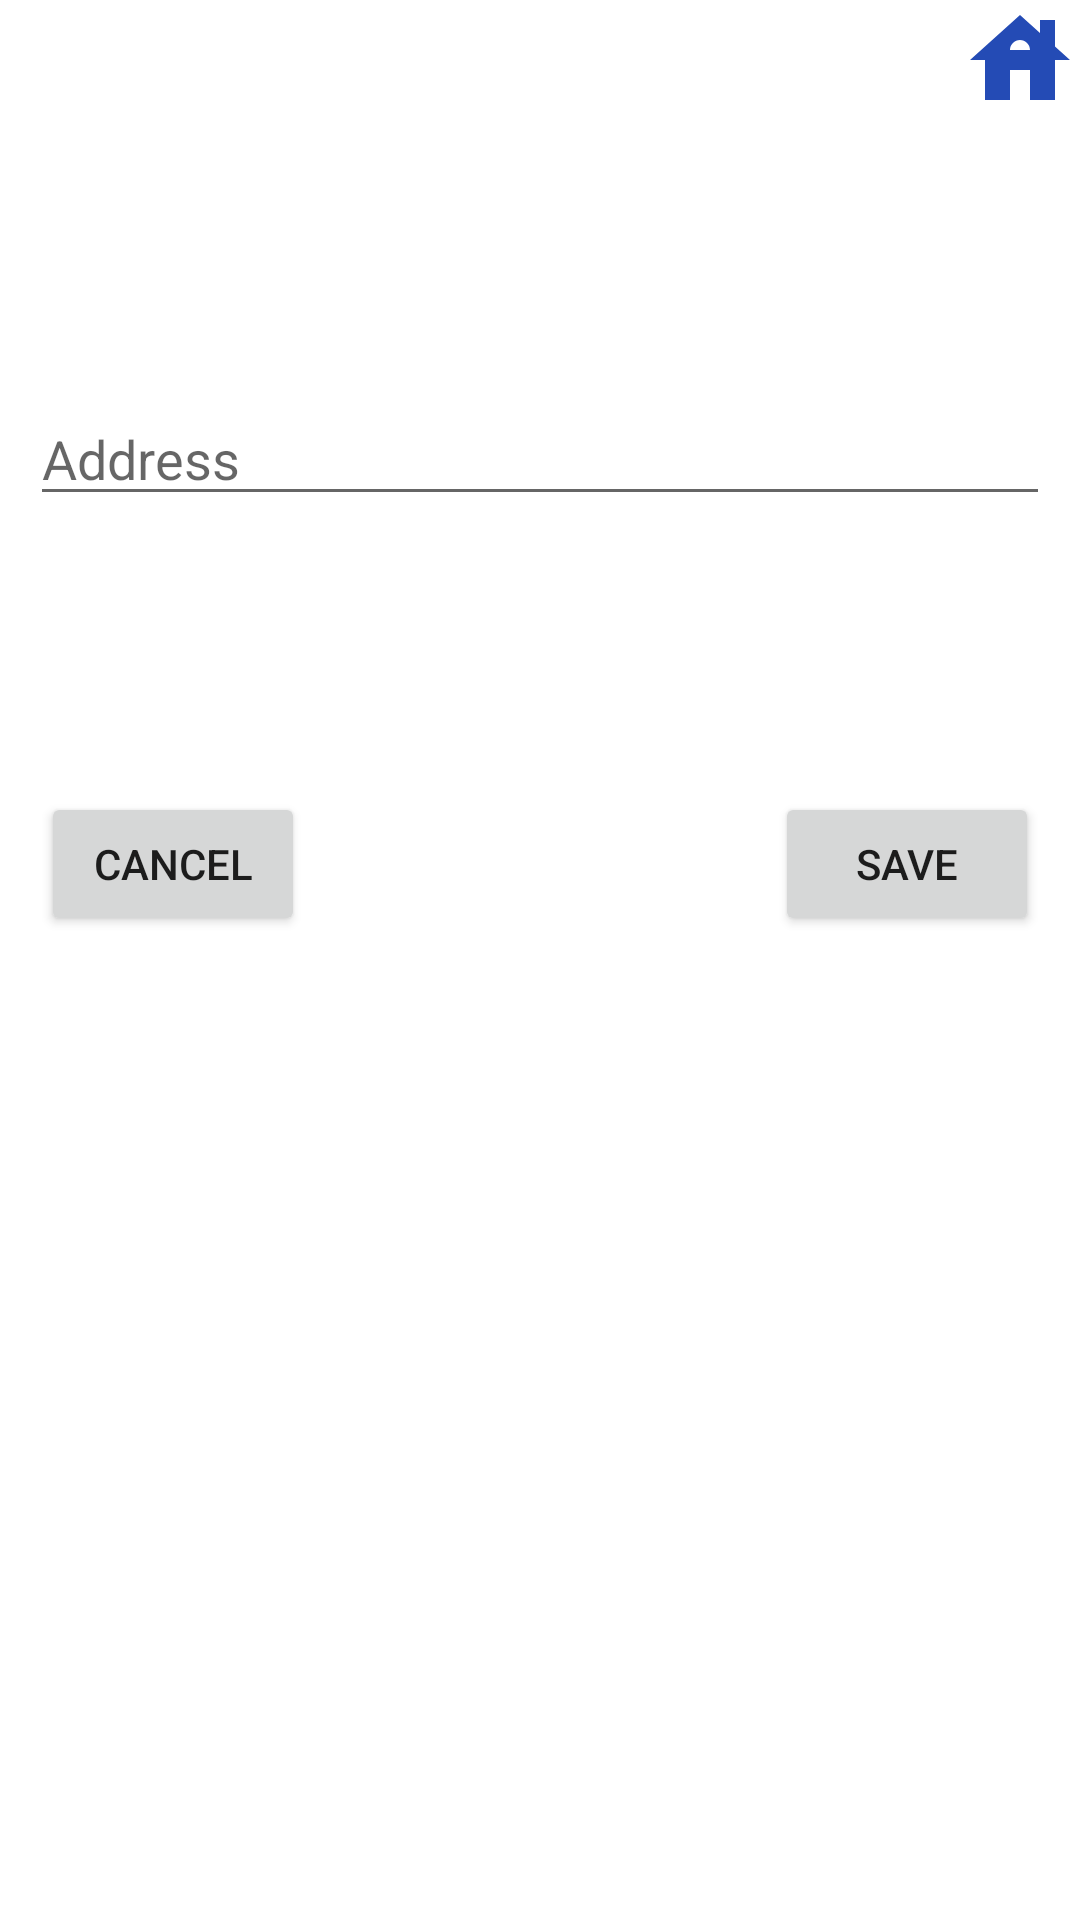

Icon click points for this 1080w x 1920h phone screenshot, format (x=x, y=y):
house: (x=1020, y=57)
